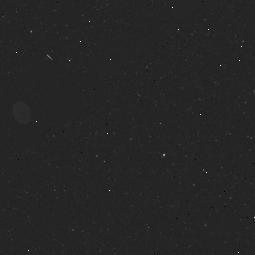smart_1: (0, 46, 81, 148)
